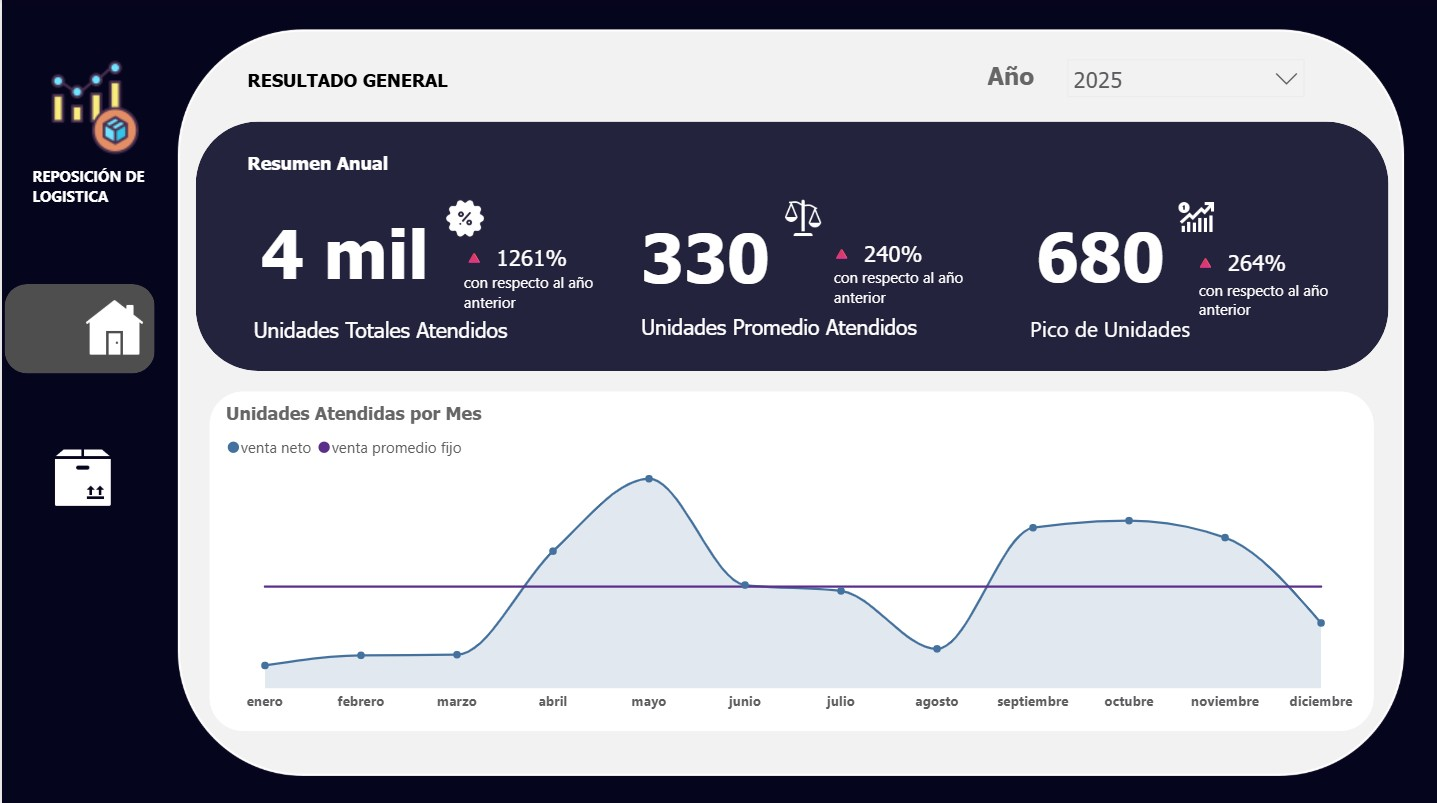

The dashboard page shown, as its layout file describes it:
{"tool":"powerbi","page":{"name":"Panel Principal","canvas":[1280,720],"ordinal":0},"visuals":[{"type":"image","box":[135.3,22.8,1133.3,674.9],"z":0},{"type":"shape","box":[172.5,109,1062.2,222.1],"z":0,"group":"g1"},{"type":"cardVisual","title":"Total de Unidades Vendidas","fields":{"Data":["dimcategoria.Venta Neto"]},"box":[213.4,155,280.2,132.3],"z":1000,"group":"g1"},{"type":"lineChart","title":"Unidades Atendidas por Mes","fields":{"Category":["dimfechas.MesNombre"],"Y":["dimcategoria.Venta Neto","dtventas.venta promedio eje secundario"]},"box":[184.8,349.8,1036.9,302.6],"z":1000},{"type":"slicer","fields":{"Values":["dimfechas.Año"]},"box":[938.4,43.6,231.6,60.2],"z":2000},{"type":"textbox","box":[219.4,277.8,324.6,46.2],"z":2000,"group":"g1"},{"type":"textbox","box":[872.2,49.6,63.2,40.6],"z":3000},{"type":"cardVisual","fields":{"Data":["dimcategoria.Venta Maxima"]},"box":[904.1,166.6,300.4,101.1],"z":3000,"group":"g1"},{"type":"group","id":"g1","title":"Grupo 1","box":[172.5,109,1062.2,222.1],"z":4000},{"type":"cardVisual","fields":{"Data":["dimcategoria.Venta Promedio"]},"box":[551.9,167.8,300.1,96.7],"z":4000,"group":"g1"},{"type":"textbox","box":[213.6,58.4,222.1,31.3],"z":5000},{"type":"textbox","box":[564.3,276.4,341.9,41.8],"z":5000,"group":"g1"},{"type":"image","box":[389.5,167.4,45.9,57.1],"z":6000},{"type":"textbox","box":[910.5,276.4,165.9,41.8],"z":6000,"group":"g1"},{"type":"image","box":[684.2,172.9,57.1,45.1],"z":7000},{"type":"image","box":[1040.6,166.9,45.1,54.1],"z":8000},{"type":"image","box":[35,49.5,96.5,95.3],"z":9000},{"type":"textbox","box":[22.8,143.8,129.6,48.4],"z":10000},{"type":"textbox","box":[213.6,131,679.2,48.4],"z":11000},{"type":"shape","box":[2.2,254.1,133.9,79.6],"z":12000},{"type":"image","box":[68.8,258.2,62.7,71.2],"z":13000},{"type":"image","box":[36.2,392.1,70,68.8],"z":14000},{"type":"cardVisual","fields":{"Data":["dimcategoria.Vental Neto Año Pasado"]},"box":[389.5,191,135.3,58.6],"z":15000},{"type":"cardVisual","fields":{"Data":["dimcategoria.Venta Promedio Año Pasado"]},"box":[717.3,188,135.3,55.6],"z":16000},{"type":"cardVisual","fields":{"Data":["dimcategoria.Venta Maxima Año Pasado"]},"box":[1041.2,195.4,135.1,54.3],"z":17000},{"type":"textbox","box":[406.9,238.1,137.1,56.3],"z":18000},{"type":"textbox","box":[735.8,233.7,137.1,53.4],"z":19000},{"type":"textbox","box":[1060.4,245.3,137.1,56.3],"z":20000}]}

Visuals, with their boxes in screenshot pixels (x1, y1, x2, y2), scaled from the page's 1280x720 canvas onto the 1437x803 screenshot:
image: {"x1": 152, "y1": 25, "x2": 1424, "y2": 778}
shape: {"x1": 194, "y1": 122, "x2": 1386, "y2": 369}
"Total de Unidades Vendidas" cardVisual: {"x1": 240, "y1": 173, "x2": 554, "y2": 320}
"Unidades Atendidas por Mes" lineChart: {"x1": 207, "y1": 390, "x2": 1372, "y2": 728}
slicer - dimfechas.Año: {"x1": 1054, "y1": 49, "x2": 1314, "y2": 116}
textbox: {"x1": 246, "y1": 310, "x2": 611, "y2": 361}
textbox: {"x1": 979, "y1": 55, "x2": 1050, "y2": 101}
cardVisual - dimcategoria.Venta Maxima: {"x1": 1015, "y1": 186, "x2": 1352, "y2": 299}
"Grupo 1" group: {"x1": 194, "y1": 122, "x2": 1386, "y2": 369}
cardVisual - dimcategoria.Venta Promedio: {"x1": 620, "y1": 187, "x2": 957, "y2": 295}
textbox: {"x1": 240, "y1": 65, "x2": 489, "y2": 100}
textbox: {"x1": 634, "y1": 308, "x2": 1017, "y2": 355}
image: {"x1": 437, "y1": 187, "x2": 489, "y2": 250}
textbox: {"x1": 1022, "y1": 308, "x2": 1208, "y2": 355}
image: {"x1": 768, "y1": 193, "x2": 832, "y2": 243}
image: {"x1": 1168, "y1": 186, "x2": 1219, "y2": 246}
image: {"x1": 39, "y1": 55, "x2": 148, "y2": 161}
textbox: {"x1": 26, "y1": 160, "x2": 171, "y2": 214}
textbox: {"x1": 240, "y1": 146, "x2": 1002, "y2": 200}
shape: {"x1": 2, "y1": 283, "x2": 153, "y2": 372}
image: {"x1": 77, "y1": 288, "x2": 148, "y2": 367}
image: {"x1": 41, "y1": 437, "x2": 119, "y2": 514}
cardVisual - dimcategoria.Vental Neto Año Pasado: {"x1": 437, "y1": 213, "x2": 589, "y2": 278}
cardVisual - dimcategoria.Venta Promedio Año Pasado: {"x1": 805, "y1": 210, "x2": 957, "y2": 272}
cardVisual - dimcategoria.Venta Maxima Año Pasado: {"x1": 1169, "y1": 218, "x2": 1321, "y2": 278}
textbox: {"x1": 457, "y1": 266, "x2": 611, "y2": 328}
textbox: {"x1": 826, "y1": 261, "x2": 980, "y2": 320}
textbox: {"x1": 1190, "y1": 274, "x2": 1344, "y2": 336}
